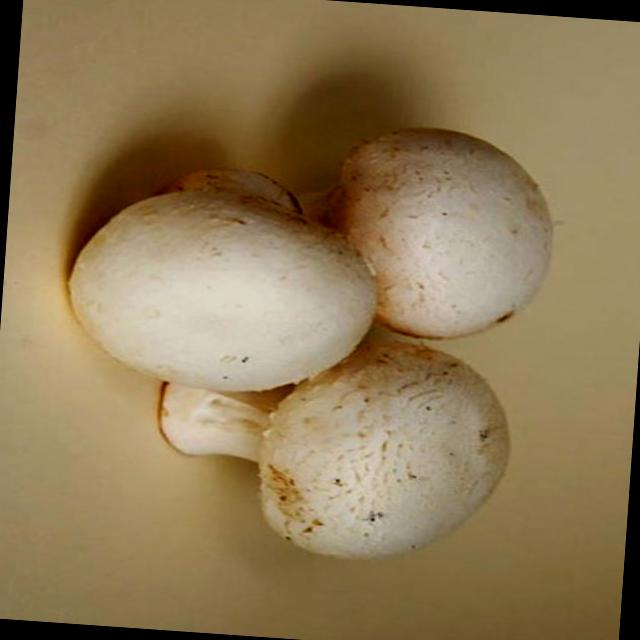Agaricus bisporus: (136, 328, 520, 571), (48, 154, 386, 400), (293, 124, 558, 348)
